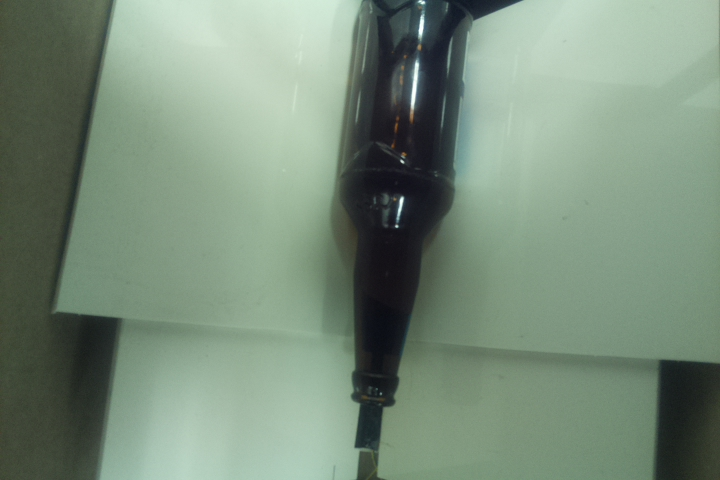makju: (325, 1, 473, 410)
